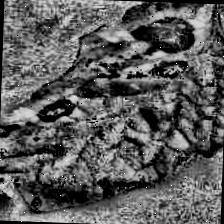disease: (0, 0, 224, 218)
